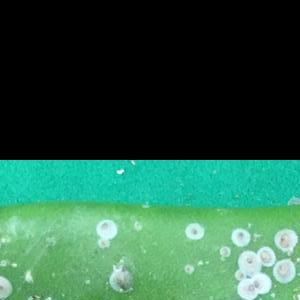Femea: (99, 221, 115, 237), (276, 263, 292, 279), (241, 255, 257, 270), (252, 277, 268, 291), (186, 227, 202, 240), (277, 233, 290, 249), (240, 280, 257, 291), (231, 230, 245, 243), (258, 250, 271, 261)
